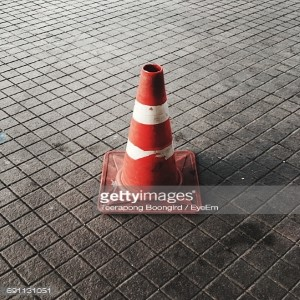traffic cone: (99, 63, 203, 213)
